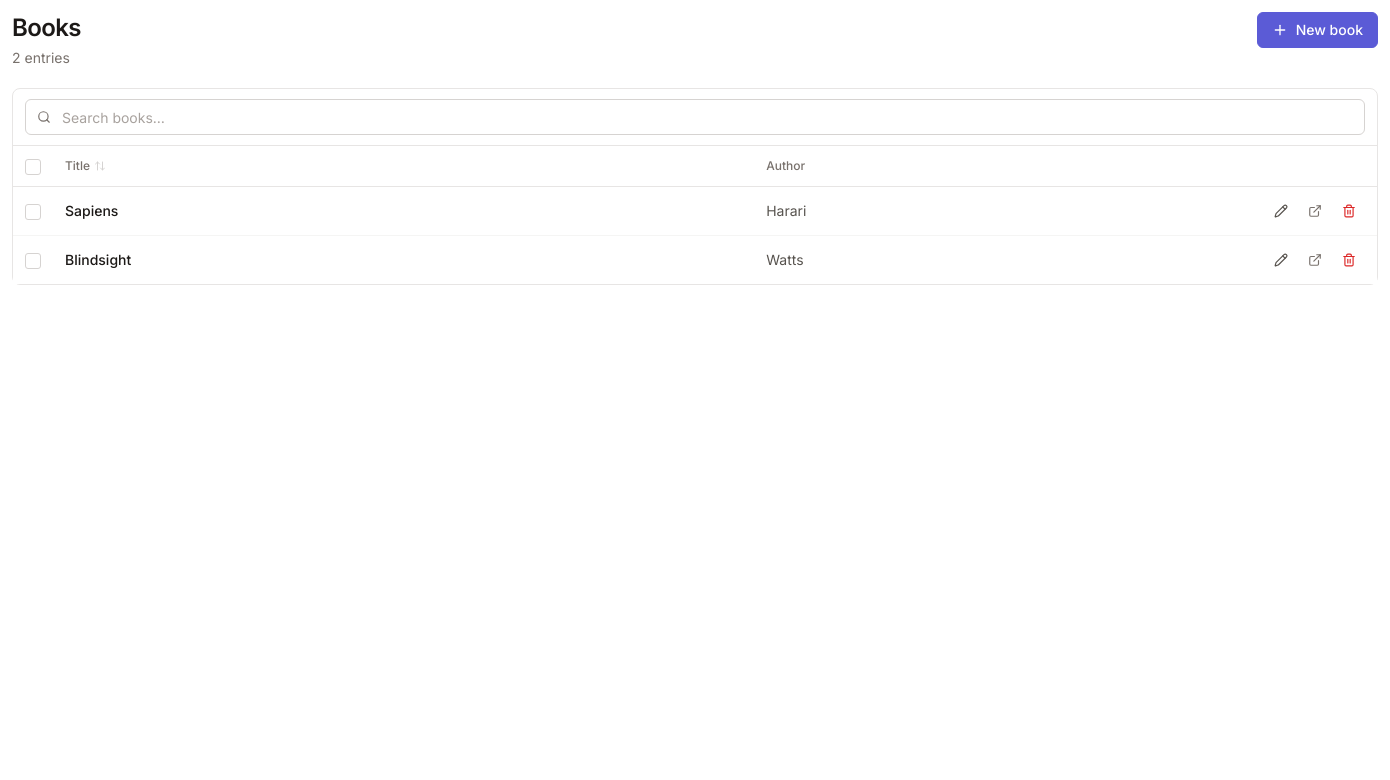
Test case: ResourceManager form › blocks a save when a required composite field is empty
Click the button "New book" at (1317, 30), box top-left (1257, 12), bottom-right (1378, 48)
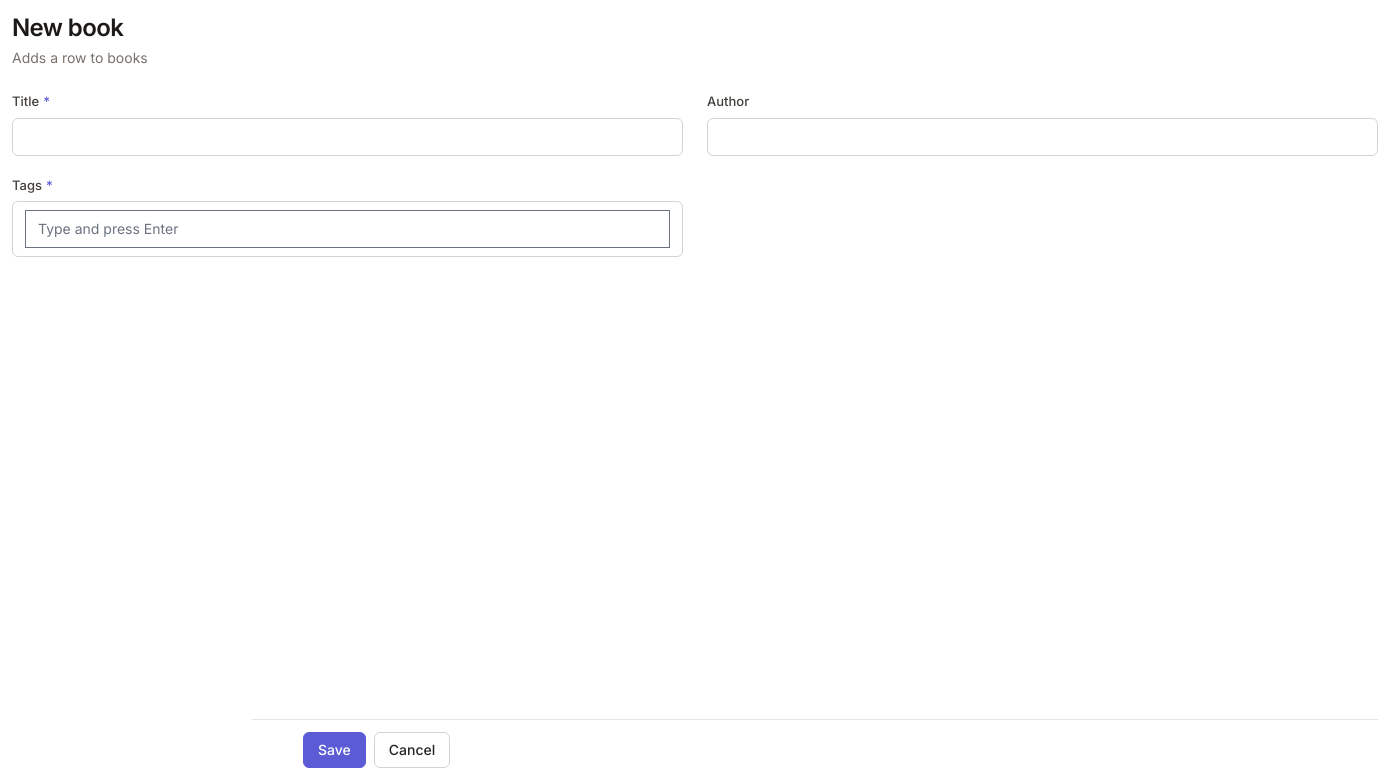
Submit the form "Save", box top-left (12, 12), bottom-right (1378, 337)
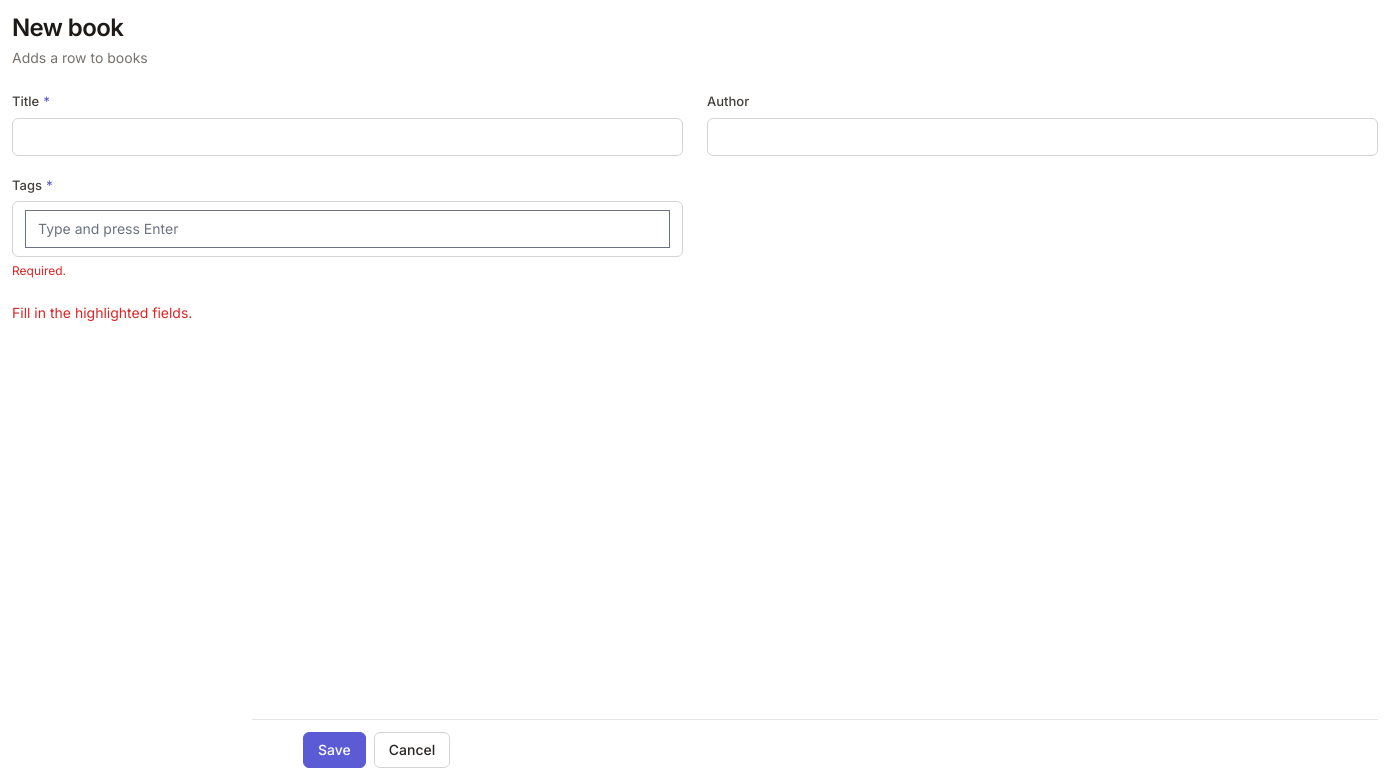
Expected: the text "Fill in the highlighted fields." is shown, top-left (12, 304), bottom-right (192, 321)
Expected: the text "Required." is shown, top-left (12, 263), bottom-right (66, 278)
